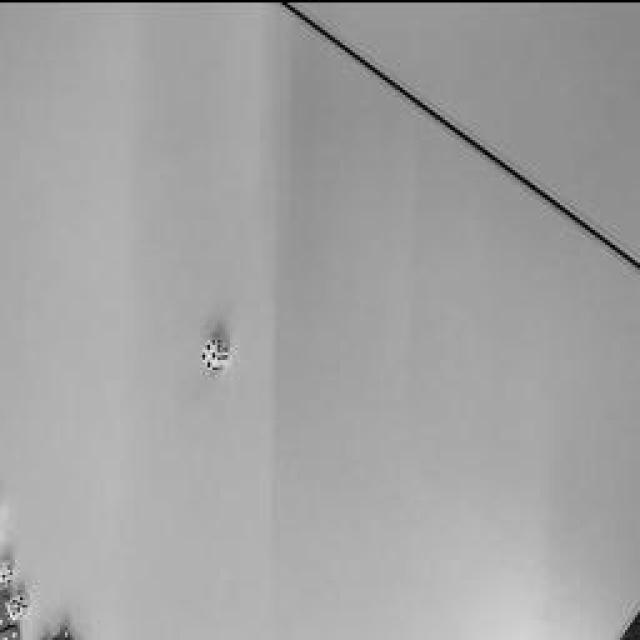dice_4: (200, 336, 220, 369)
dice_6: (5, 598, 15, 622)
